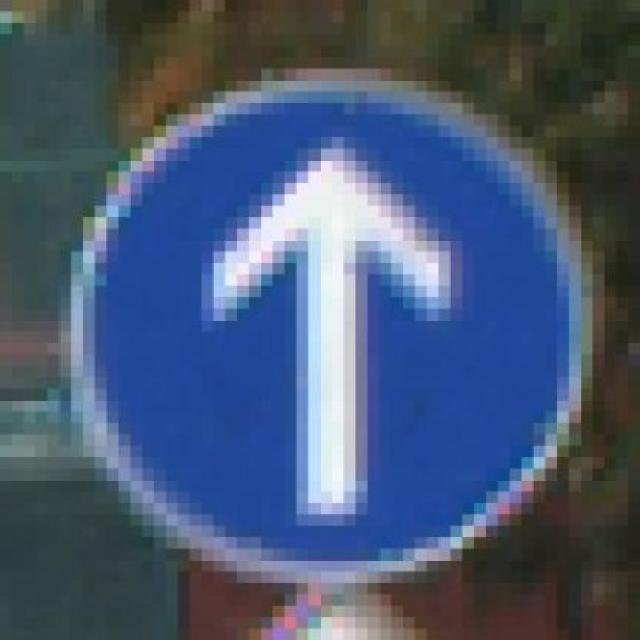Straight Ahead Only: (47, 68, 616, 583)
